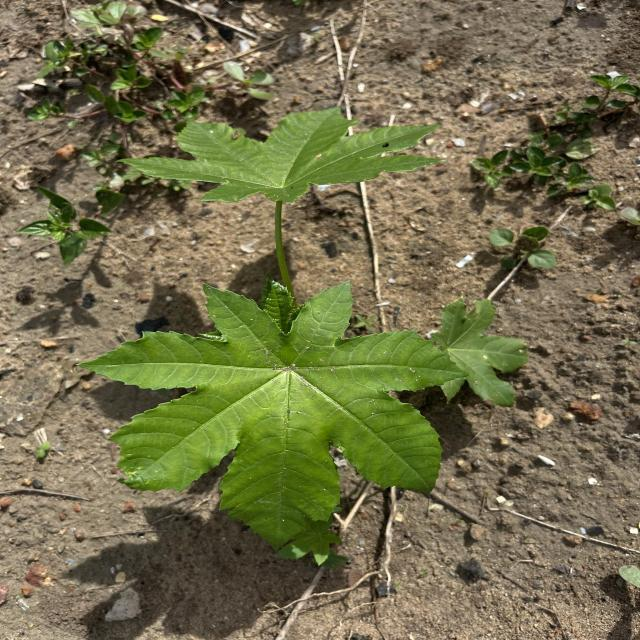Ricinus communis linn: (72, 276, 473, 557), (111, 100, 452, 208)
